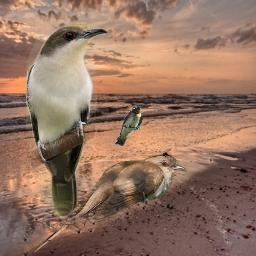Cuckoo: (26, 25, 109, 220), (33, 154, 187, 254)
Swallow: (114, 105, 143, 146)
